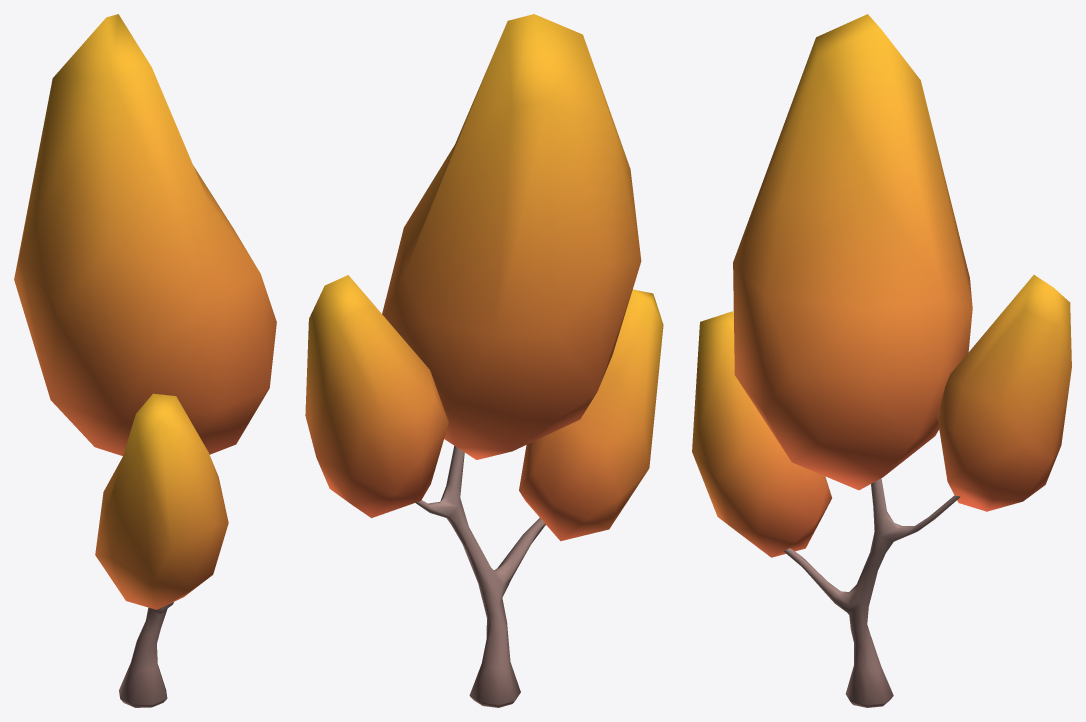
File: Tree01_M_Orange.fbx
The picture shows the model from 3 angles, left to right: view 1: azimuth 30°, elevation 25°; view 2: azimuth 150°, elevation 25°; view 3: azimuth 270°, elevation 25°; orthographic projection. The views are drawn at different scales.
Parts seen in each view (by area): view 1: Tree01_M_Orange; view 2: Tree01_M_Orange; view 3: Tree01_M_Orange.
Boxes of the visible parts, <box> form: Tree01_M_Orange: <box>14,14,276,707</box>; Tree01_M_Orange: <box>305,14,663,707</box>; Tree01_M_Orange: <box>692,14,1071,707</box>.
Size of the model in its own units: 5.18 by 15.11 by 7.79.
